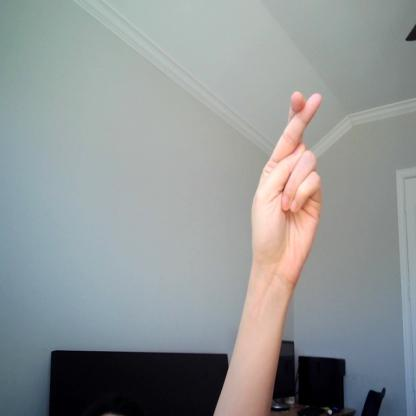R: (250, 89, 327, 279)
